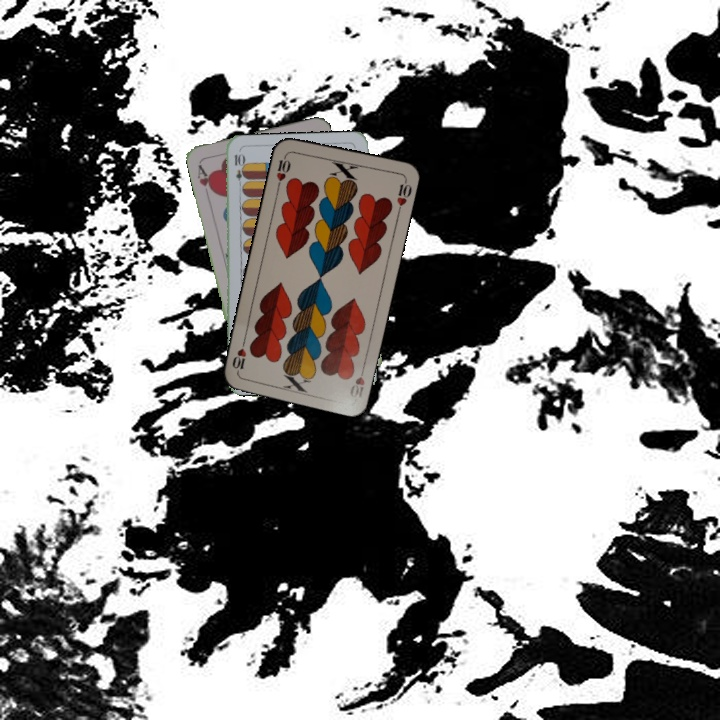E10: (230, 150, 245, 190)
H10: (345, 361, 368, 402), (272, 150, 293, 190)
HA: (193, 158, 217, 198)
